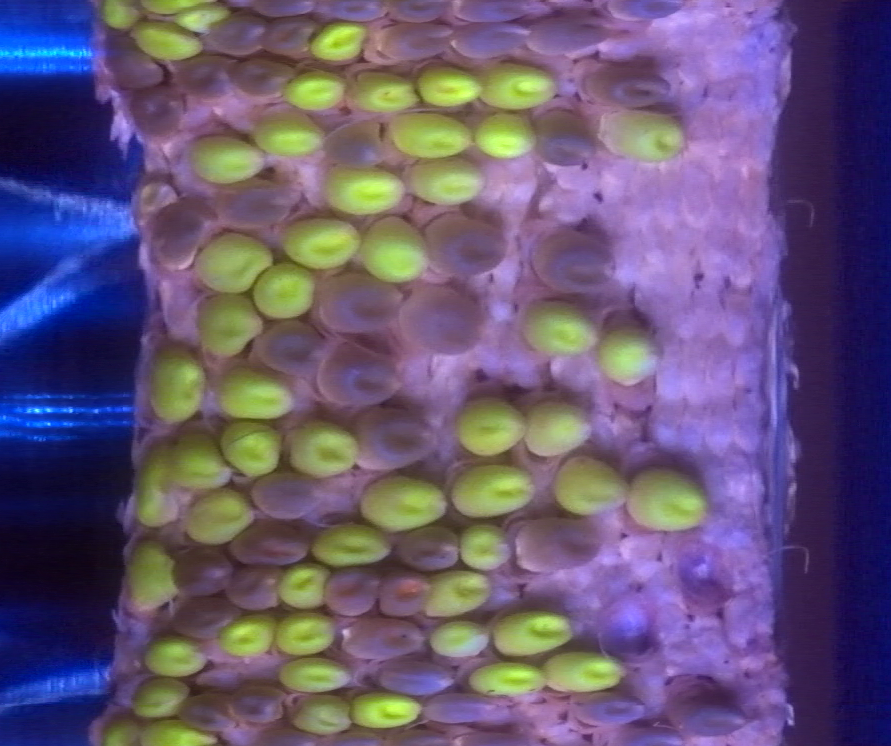fluorescent: (629, 464, 709, 532), (358, 477, 450, 527), (449, 468, 539, 515), (218, 364, 293, 420), (523, 300, 597, 355), (452, 397, 523, 453), (364, 219, 428, 281), (195, 238, 268, 292), (601, 110, 683, 158), (555, 459, 632, 510), (152, 345, 201, 421), (309, 523, 394, 566), (483, 58, 558, 106), (128, 539, 179, 609), (284, 219, 359, 266), (187, 134, 264, 178), (330, 164, 399, 213), (390, 111, 470, 153), (497, 610, 569, 656), (173, 429, 231, 486), (198, 299, 261, 350), (411, 159, 482, 204), (288, 424, 357, 470), (188, 493, 254, 540), (524, 403, 591, 449), (224, 421, 280, 475), (415, 62, 481, 107), (138, 448, 178, 522), (251, 268, 316, 313), (602, 330, 656, 383), (547, 654, 623, 691), (254, 115, 322, 156), (462, 521, 511, 576), (291, 694, 353, 737), (128, 24, 206, 58), (354, 71, 417, 111), (424, 574, 492, 611), (279, 564, 332, 609), (143, 640, 210, 675), (275, 617, 334, 655), (477, 117, 534, 156), (432, 619, 487, 657), (277, 662, 349, 691), (285, 70, 341, 106), (469, 666, 544, 692), (352, 698, 421, 726), (130, 680, 191, 711), (225, 618, 271, 659), (312, 24, 364, 58), (142, 721, 218, 742), (99, 1, 140, 27), (177, 8, 219, 33), (104, 717, 145, 741), (136, 1, 197, 12)
nonfluorescent: (397, 286, 484, 358), (532, 227, 620, 294), (317, 342, 407, 406), (424, 212, 510, 278), (514, 516, 605, 575), (670, 539, 737, 617), (665, 672, 746, 735), (359, 410, 437, 469), (322, 274, 393, 334), (577, 62, 675, 105), (595, 591, 657, 658), (213, 182, 299, 227), (258, 319, 321, 375), (250, 471, 320, 521), (343, 615, 426, 657), (536, 109, 596, 166), (369, 657, 458, 695), (106, 37, 167, 91), (154, 201, 199, 274), (528, 16, 612, 52), (561, 688, 649, 722), (422, 693, 515, 724), (235, 526, 307, 565), (395, 531, 462, 572), (325, 121, 383, 168), (375, 24, 457, 56), (129, 89, 178, 142), (175, 56, 229, 104), (226, 563, 280, 608), (327, 567, 377, 615), (231, 684, 286, 727), (231, 62, 290, 102), (376, 571, 426, 618), (177, 551, 229, 596), (206, 13, 260, 55), (457, 24, 529, 55), (175, 601, 237, 637), (186, 691, 235, 734), (263, 18, 309, 57), (603, 1, 685, 22), (454, 1, 527, 24), (602, 728, 681, 746), (386, 1, 452, 22), (322, 1, 385, 22), (253, 1, 319, 21)
